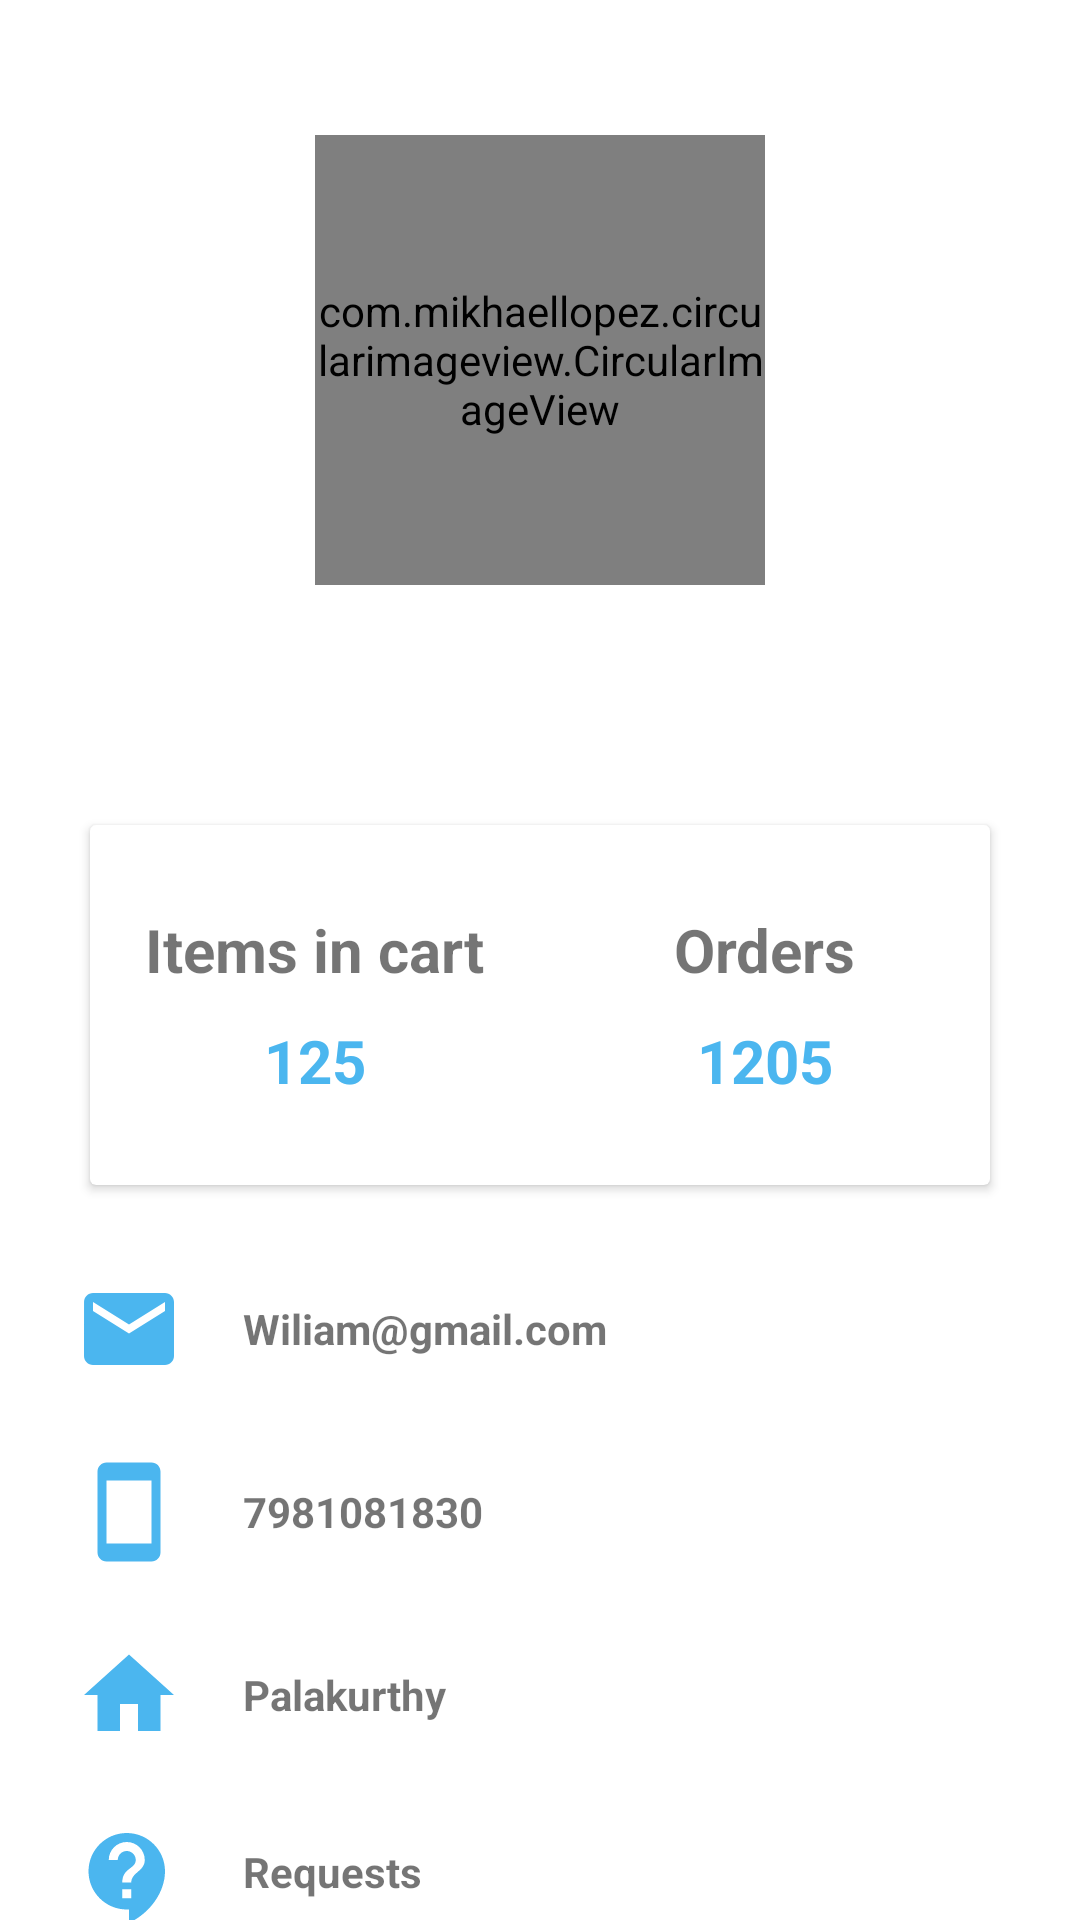

Point at icon controls on the screen. Image size 1080 × 1920, points as (x=x, y=y).
email: (x=129, y=1329)
home: (x=129, y=1693)
smartphone: (x=129, y=1512)
